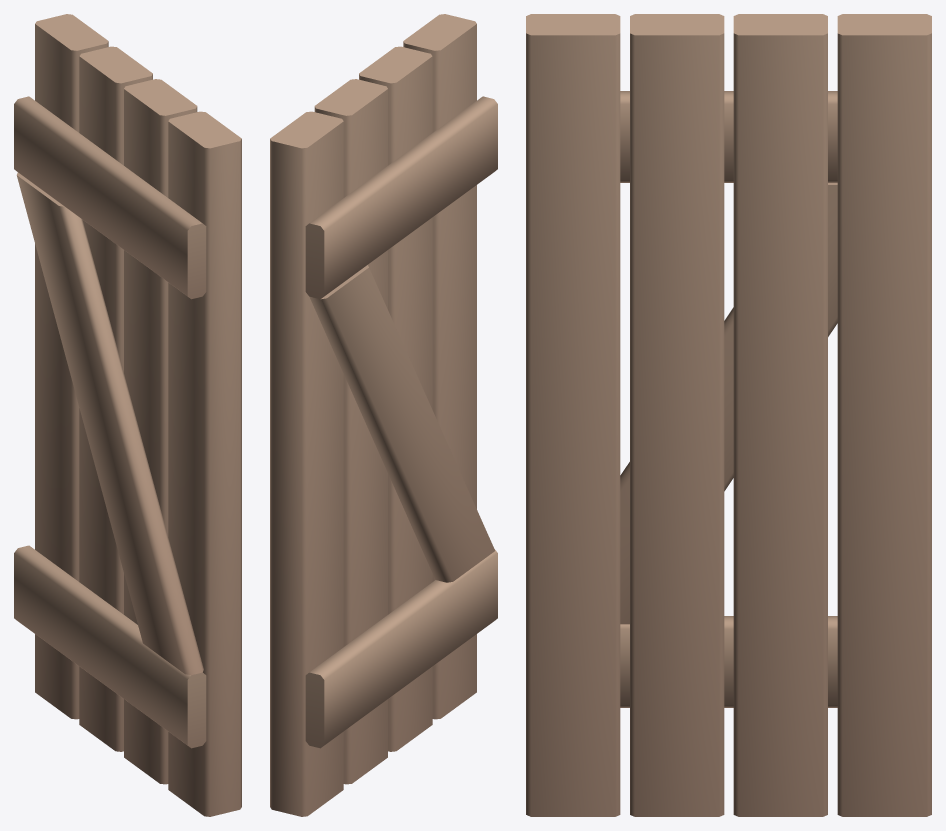
The model's file is shutter-classic-tall-cross (%wall).glb.
The picture shows the model from 3 angles, left to right: view 1: azimuth 30°, elevation 25°; view 2: azimuth 150°, elevation 25°; view 3: azimuth 270°, elevation 25°; orthographic projection. The views are drawn at different scales.
Parts seen in each view (by area): view 1: shutter-classic-tall-cross (%wall); view 2: shutter-classic-tall-cross (%wall); view 3: shutter-classic-tall-cross (%wall).
Boxes of the visible parts, x1,y1,x2,y2 form: shutter-classic-tall-cross (%wall): (14,14,241,816); shutter-classic-tall-cross (%wall): (270,14,497,816); shutter-classic-tall-cross (%wall): (526,14,931,816).
Bounding box in the file's own units: 0.075 × 0.85 × 0.4.
